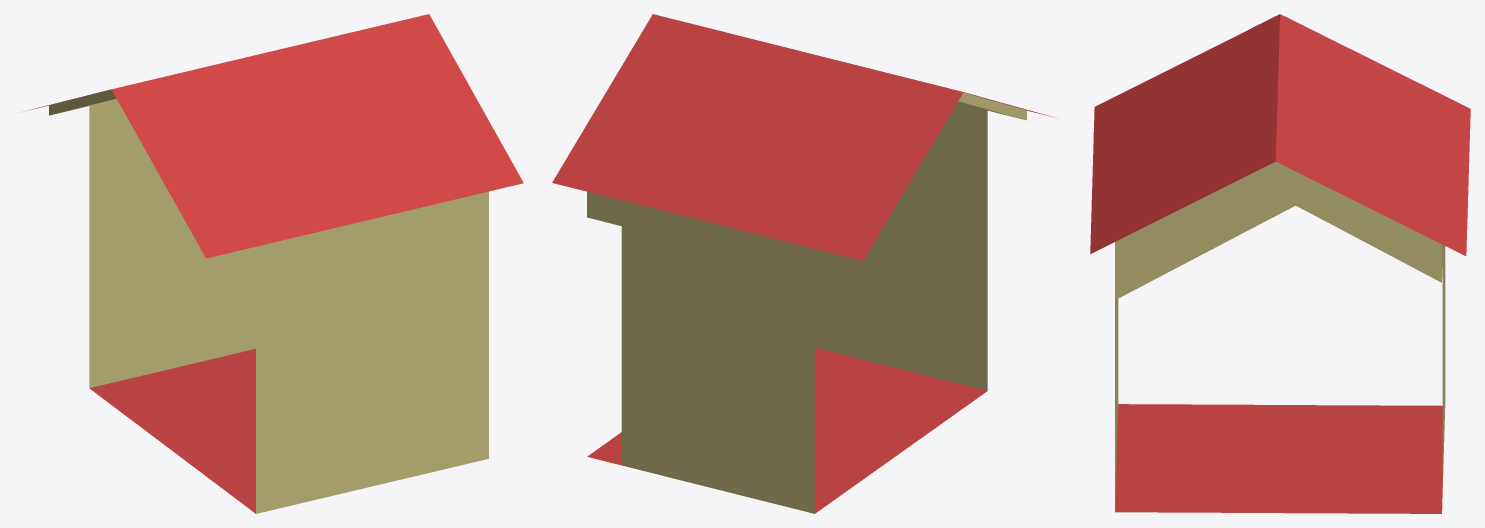
3 renders of one model, left to right at view 1: azimuth 30°, elevation 25°; view 2: azimuth 150°, elevation 25°; view 3: azimuth 270°, elevation 25°, orthographic. The views are drawn at different scales.
Size of the model in its own units: 10.78 by 11.59 by 12.16.
